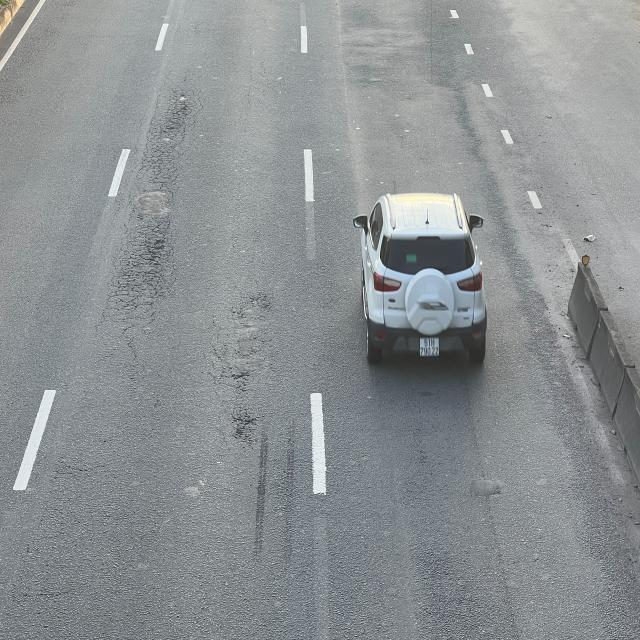car: (355, 189, 488, 373)
